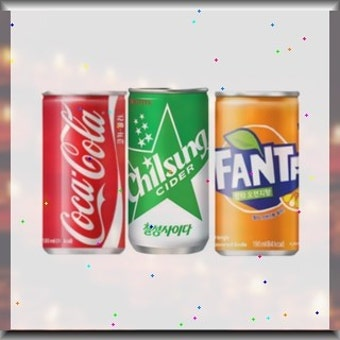paper: (214, 89, 304, 259), (126, 86, 211, 257), (40, 89, 126, 257)
